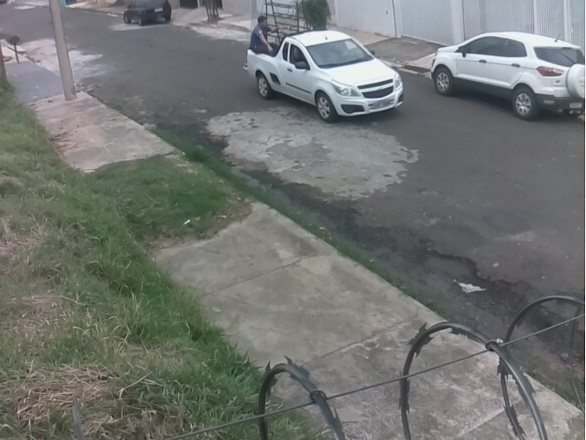person: (249, 16, 277, 55)
